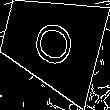O_W: (26, 14, 77, 70)
